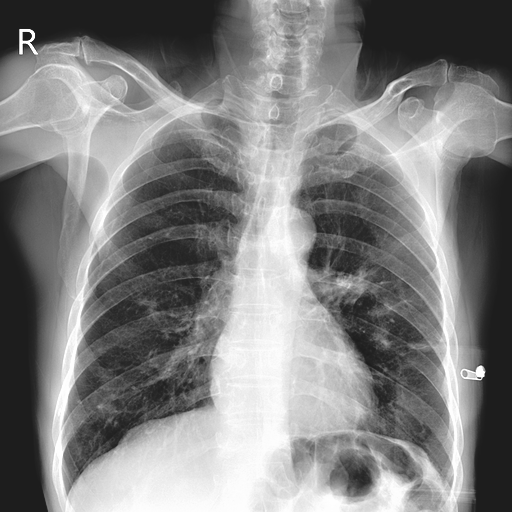Consolidation: (266, 207, 317, 261)
Pneumothorax: (335, 267, 426, 314), (74, 394, 121, 427), (127, 291, 166, 326), (370, 335, 430, 351), (406, 341, 446, 351), (371, 330, 393, 347)
